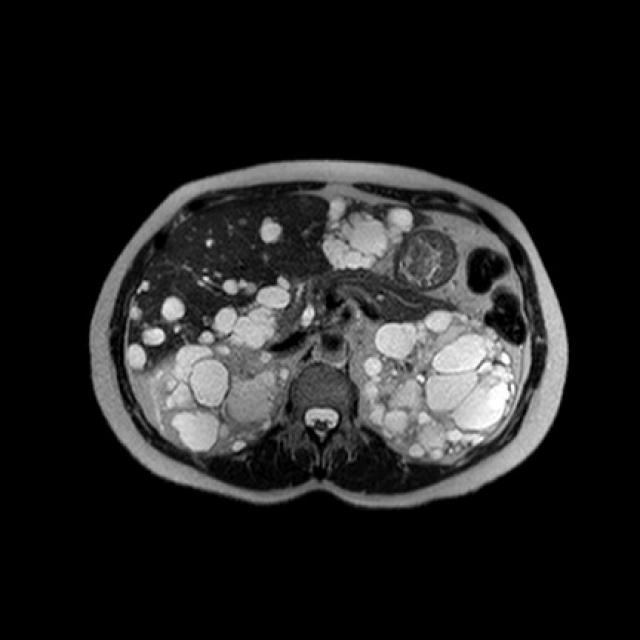sag: (157, 308, 292, 454)
sol: (363, 310, 515, 457)
